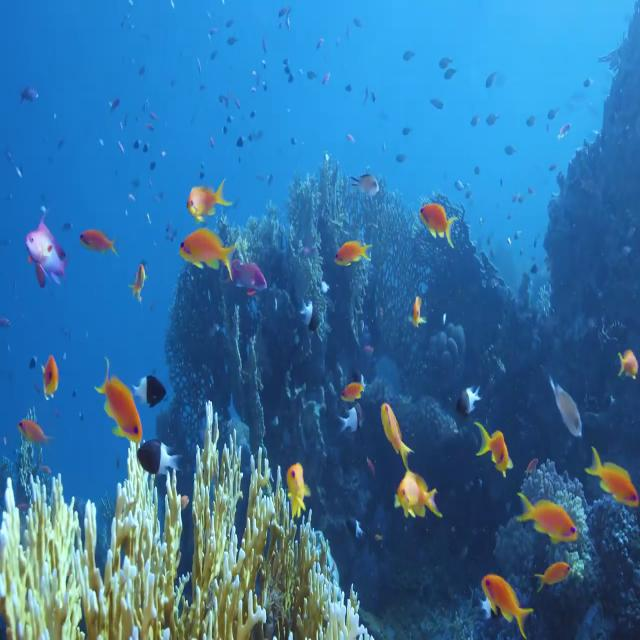fish: (90, 354, 146, 451), (512, 485, 582, 550), (173, 228, 240, 293), (179, 163, 243, 227), (392, 451, 446, 524), (476, 572, 534, 638), (546, 363, 590, 446), (23, 211, 70, 287), (583, 444, 640, 506), (368, 390, 412, 467), (412, 190, 460, 260), (132, 425, 185, 477), (472, 409, 514, 473), (329, 225, 377, 280), (526, 544, 576, 592), (128, 360, 169, 412), (286, 438, 311, 518), (451, 368, 481, 433), (612, 325, 640, 394), (19, 402, 53, 458), (293, 277, 328, 330), (35, 341, 64, 402), (400, 289, 431, 343), (130, 249, 157, 310), (74, 221, 116, 260), (338, 353, 372, 401), (236, 252, 269, 301), (348, 159, 386, 200), (334, 400, 363, 438)
